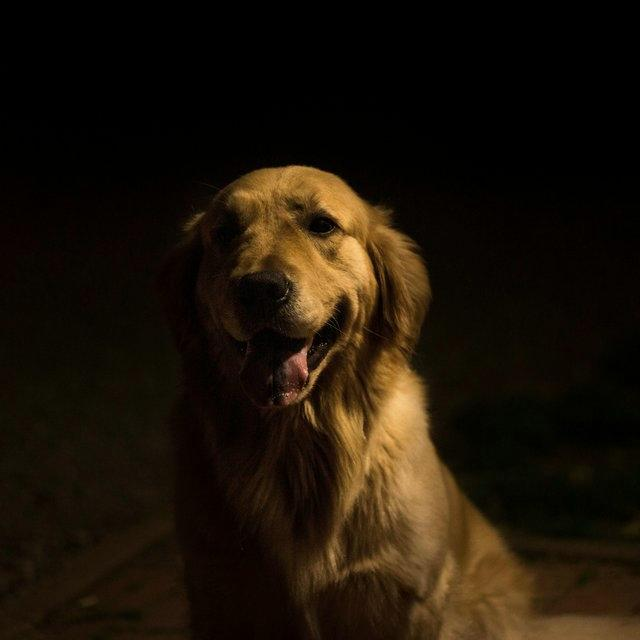retriever: (147, 159, 547, 640)
